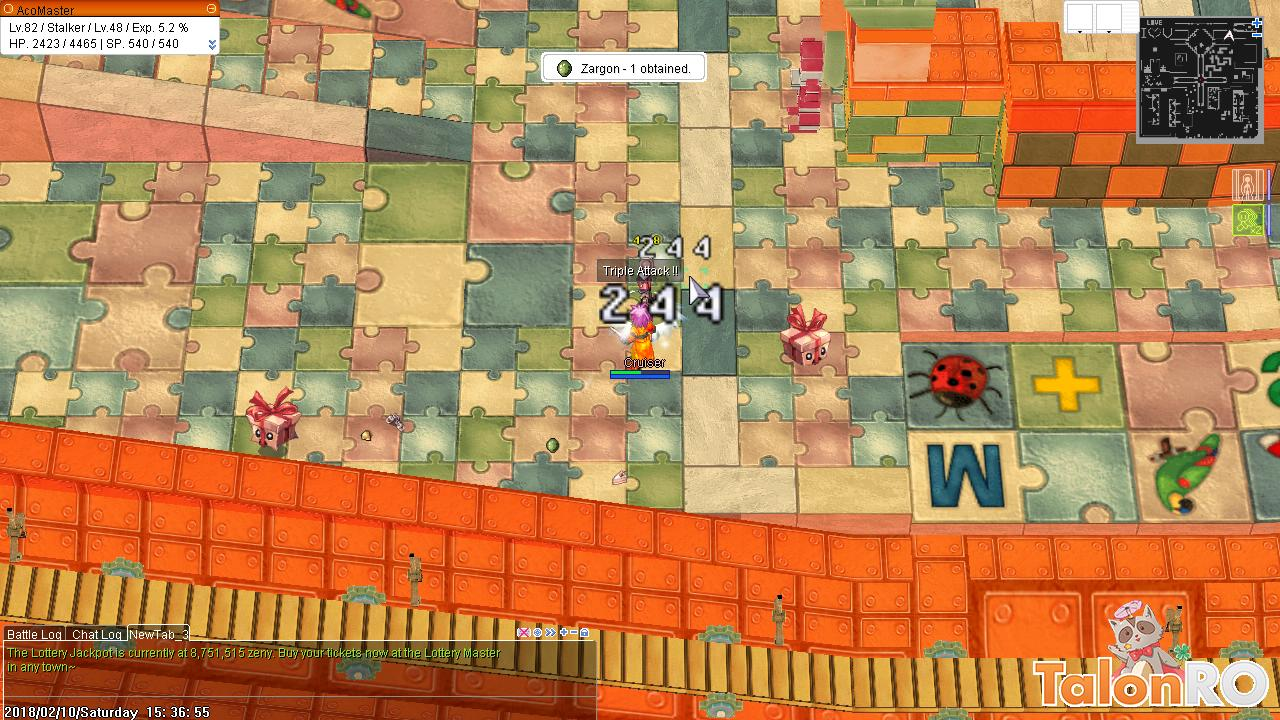loot: (382, 408, 411, 435), (607, 468, 635, 492), (543, 431, 563, 457), (357, 425, 377, 445)
myst_case: (243, 383, 304, 453), (773, 303, 835, 369)
